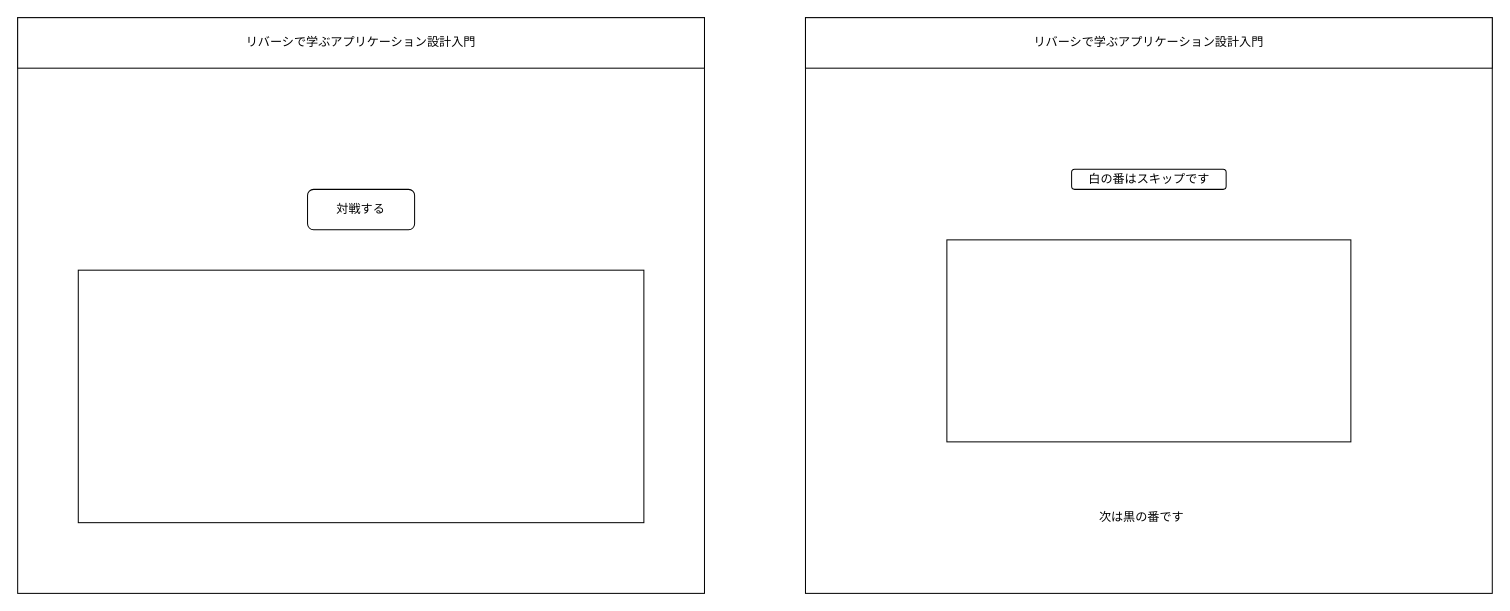
Some shapes in this 1510 by 611 pixel diagram are drawn without their labels. Each missing label, with the centre of its shape:
"対戦結果" belongs at point 360,396.
"盤面" belongs at point 1148,340.
